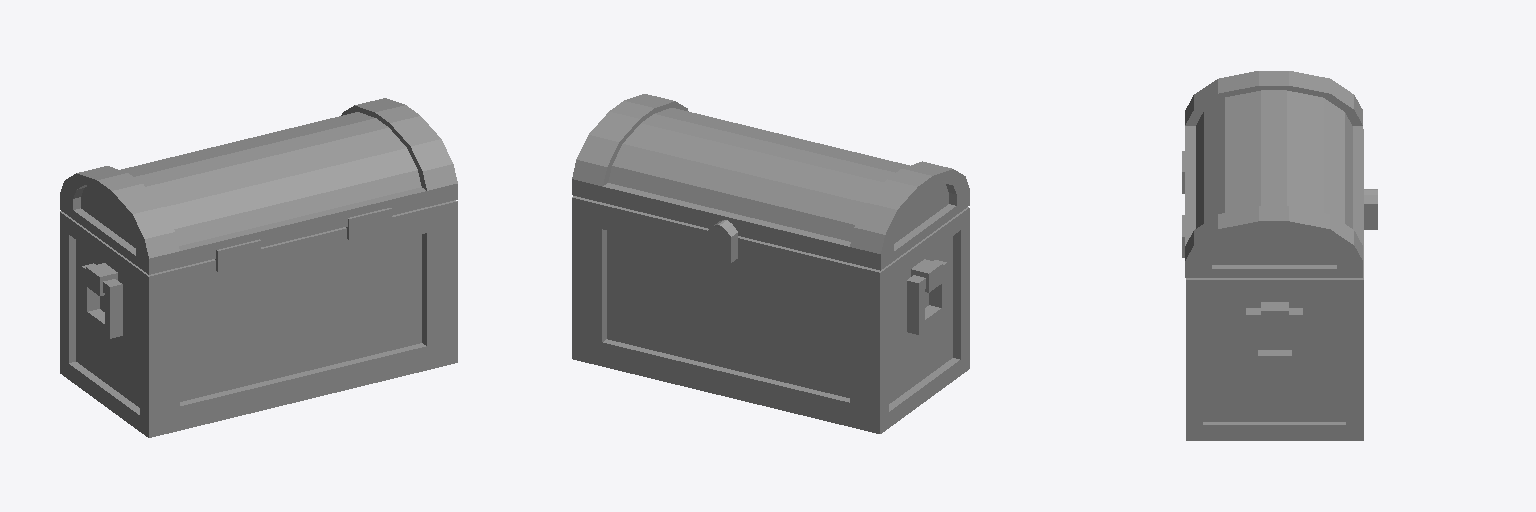
3 renders of one model, left to right at view 1: azimuth 30°, elevation 25°; view 2: azimuth 150°, elevation 25°; view 3: azimuth 270°, elevation 25°, orthographic.
Visible parts, largest first — view 1: chest_Chest; view 2: chest_Chest; view 3: chest_Chest.
Boxes of the visible parts, box(x1,y1,x2,y2) form: chest_Chest: box(60, 98, 457, 437); chest_Chest: box(572, 94, 969, 433); chest_Chest: box(1182, 71, 1377, 440).
Size of the model in its own units: 1.71 by 1.09 by 0.8813.